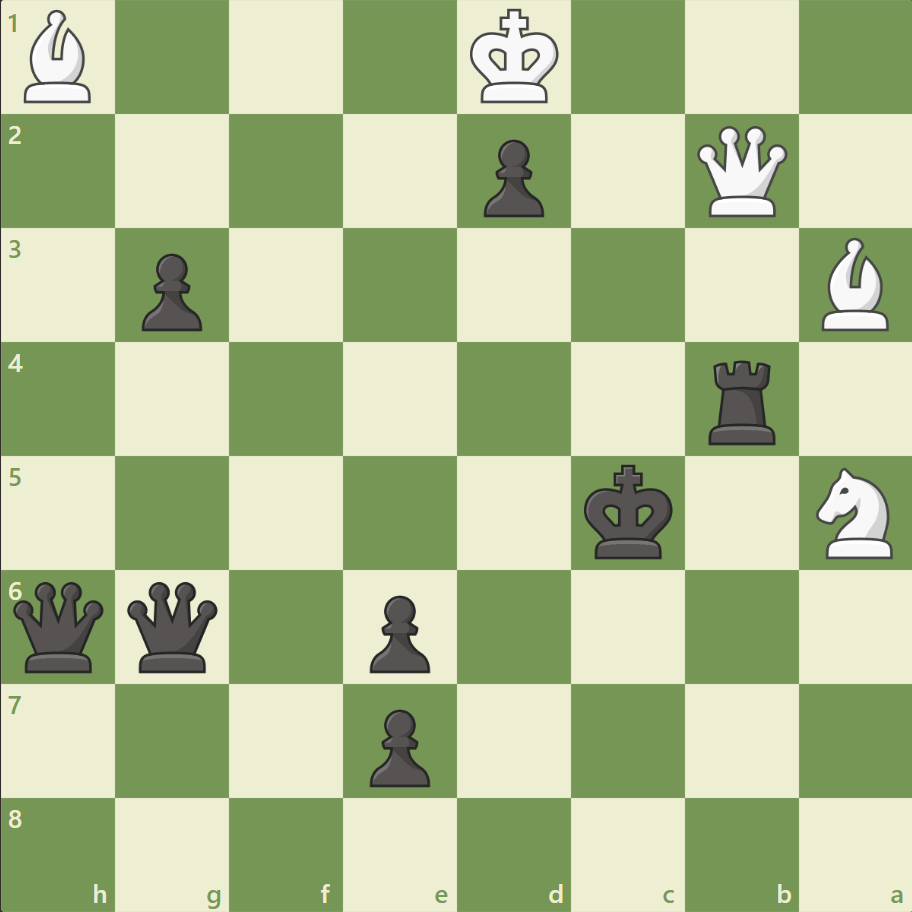B: (812, 233, 896, 336), (17, 6, 101, 109)
K: (465, 4, 565, 112)
N: (806, 461, 903, 564)
Q: (691, 122, 790, 222)
k: (579, 458, 679, 566)
p: (133, 246, 208, 337), (474, 132, 549, 223), (361, 700, 435, 791), (361, 586, 435, 677)
q: (124, 576, 223, 676), (10, 576, 109, 676)
r: (700, 352, 783, 449)
